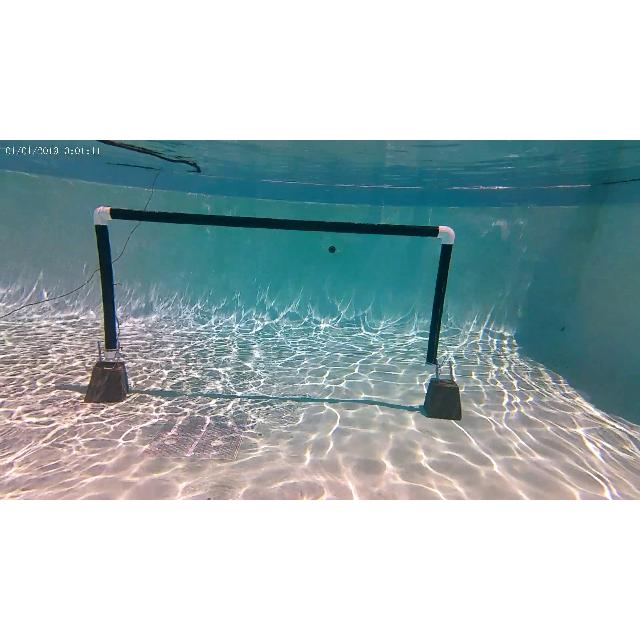prequal gate: (96, 206, 454, 360)
prequal gate leg l: (92, 202, 126, 384)
prequal gate leg r: (426, 224, 456, 364)
